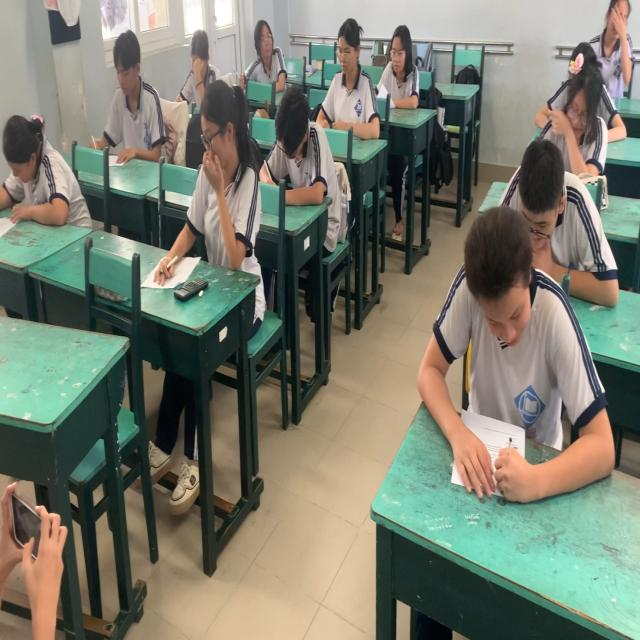cheating: (238, 2, 287, 77)
not_cheating: (442, 229, 586, 468), (0, 92, 94, 250), (182, 99, 256, 281), (491, 136, 581, 278), (100, 19, 160, 160), (264, 81, 322, 199), (326, 22, 381, 143), (550, 56, 596, 167), (594, 5, 630, 112), (178, 16, 219, 102), (380, 19, 414, 116)
